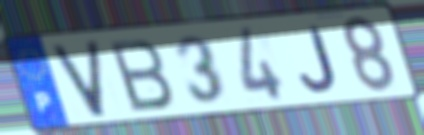3: (172, 33, 226, 106)
4: (237, 24, 287, 104)
8: (342, 13, 396, 95)
B: (105, 36, 177, 114)
J: (298, 23, 339, 94)
V: (48, 37, 109, 120)
